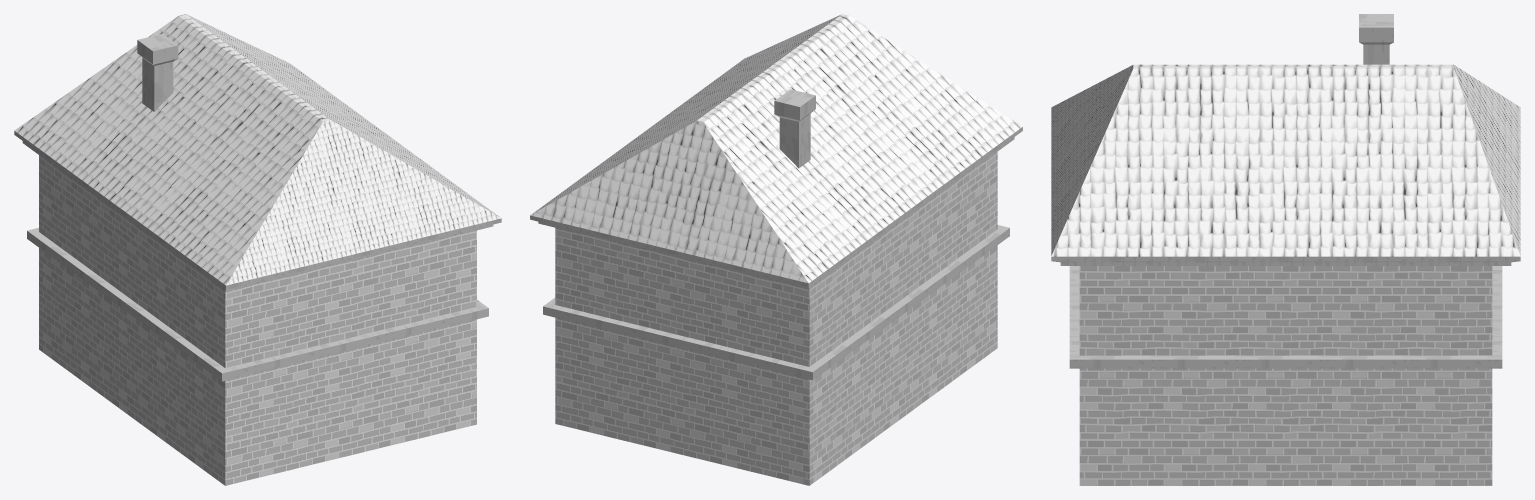
File: Building_B.fbx
3 renders of one model, left to right at view 1: azimuth 30°, elevation 25°; view 2: azimuth 150°, elevation 25°; view 3: azimuth 270°, elevation 25°, orthographic. The views are drawn at different scales.
Visible parts, largest first — view 1: Building_B; view 2: Building_B; view 3: Building_B.
Part boxes in pixels (bbox=[...]): Building_B: bbox=[14, 14, 501, 485]; Building_B: bbox=[530, 14, 1022, 485]; Building_B: bbox=[1051, 14, 1520, 485].
Bounding box in the file's own units: 2096 × 2391 × 2788.
Materials: 3 (3 with a texture image).
